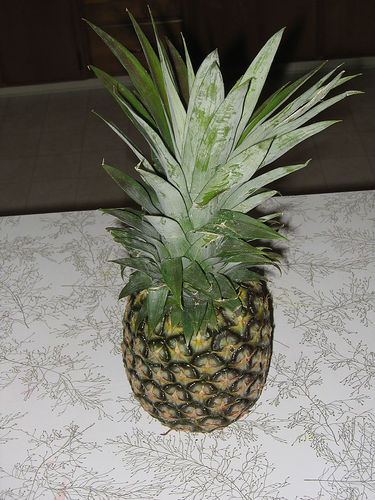pineapple: (78, 2, 369, 434)
